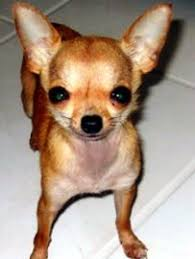chihuahua: (6, 1, 178, 259)
